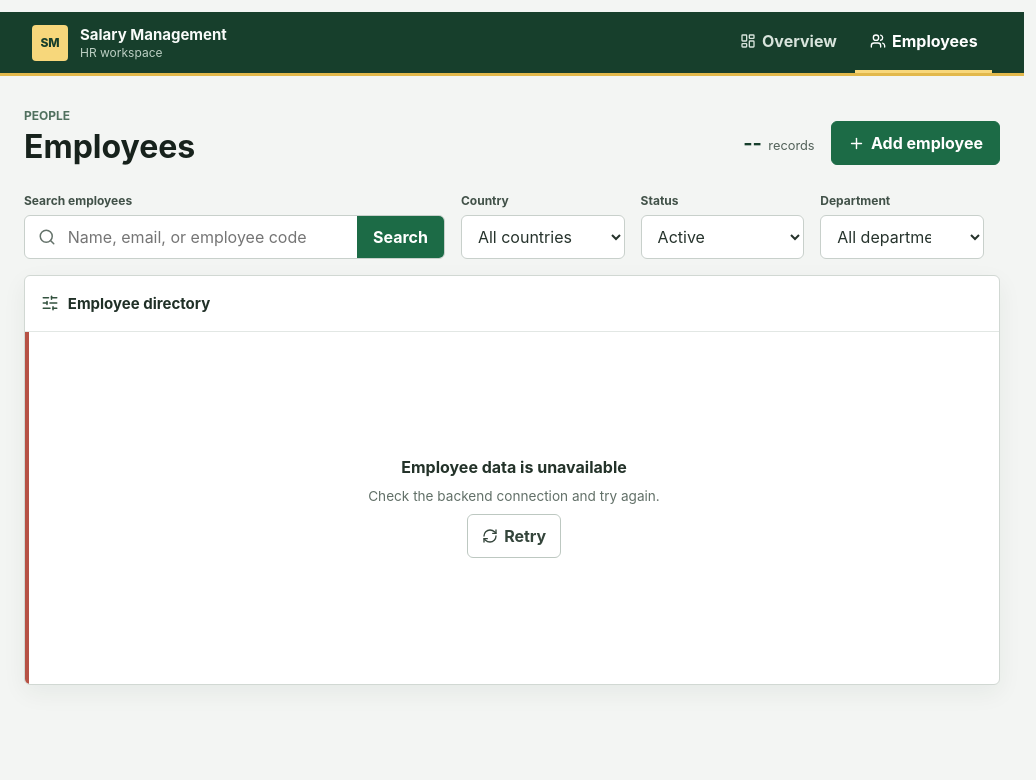
it: shows a retryable error when the backend request fails
Expected: the message shows "Employee data is unavailable", [401, 457, 627, 477]
Click the button "Retry" at (514, 536), box [467, 514, 561, 558]
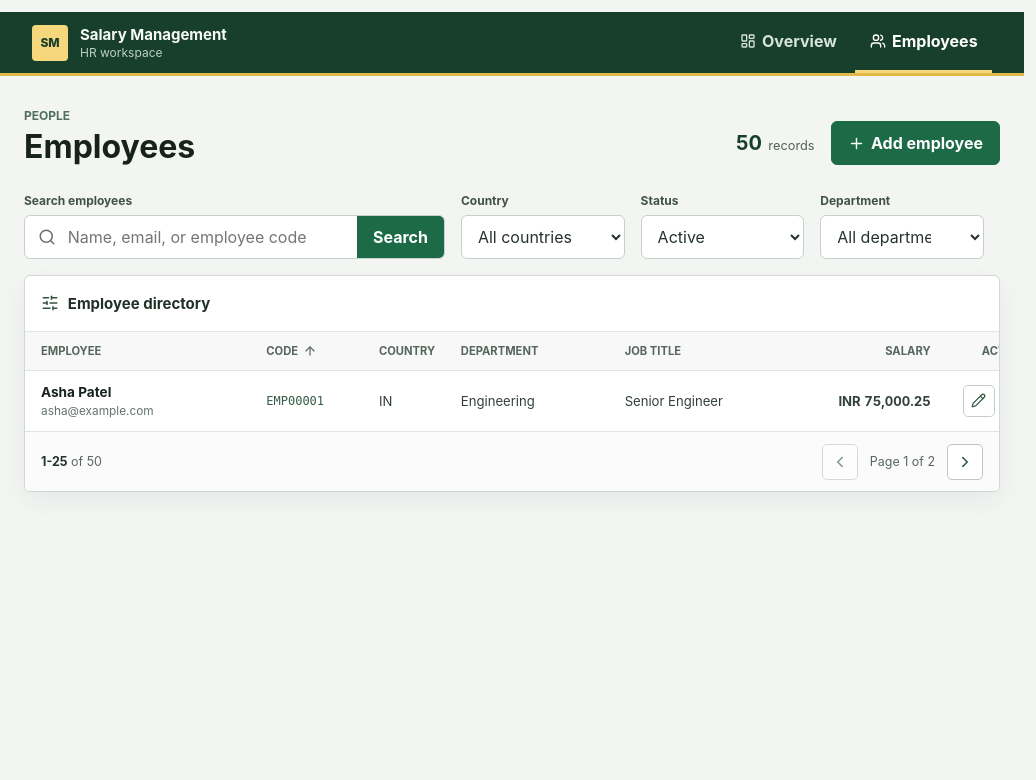
Expected: the text "Asha Patel" is shown, [41, 384, 111, 400]
